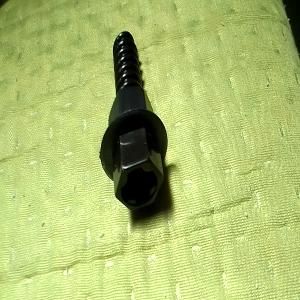parafuso: (100, 31, 168, 210)
